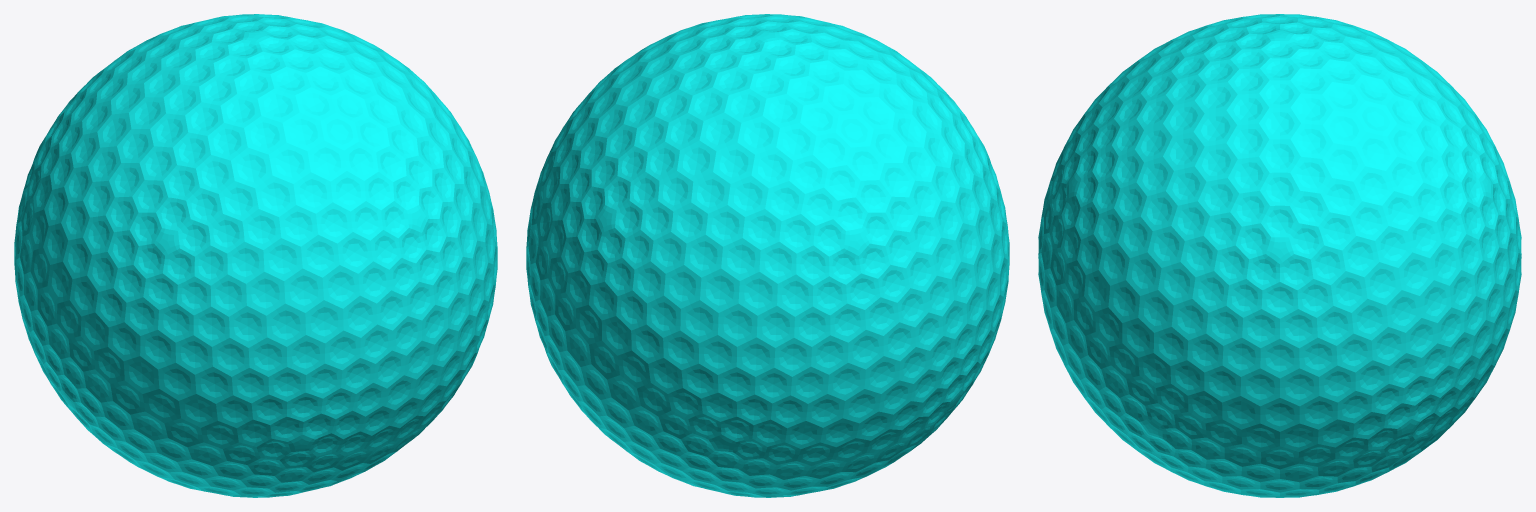
File: pelotaBasica.glb
3 renders of one model, left to right at view 1: azimuth 30°, elevation 25°; view 2: azimuth 150°, elevation 25°; view 3: azimuth 270°, elevation 25°, orthographic.
Visible parts, largest first — view 1: Icosphere; view 2: Icosphere; view 3: Icosphere.
Boxes of the visible parts, <box> form: Icosphere: <box>14,14,497,497</box>; Icosphere: <box>526,14,1009,497</box>; Icosphere: <box>1038,14,1521,497</box>.
Size of the model in its own units: 1.26 by 1.27 by 1.26.
